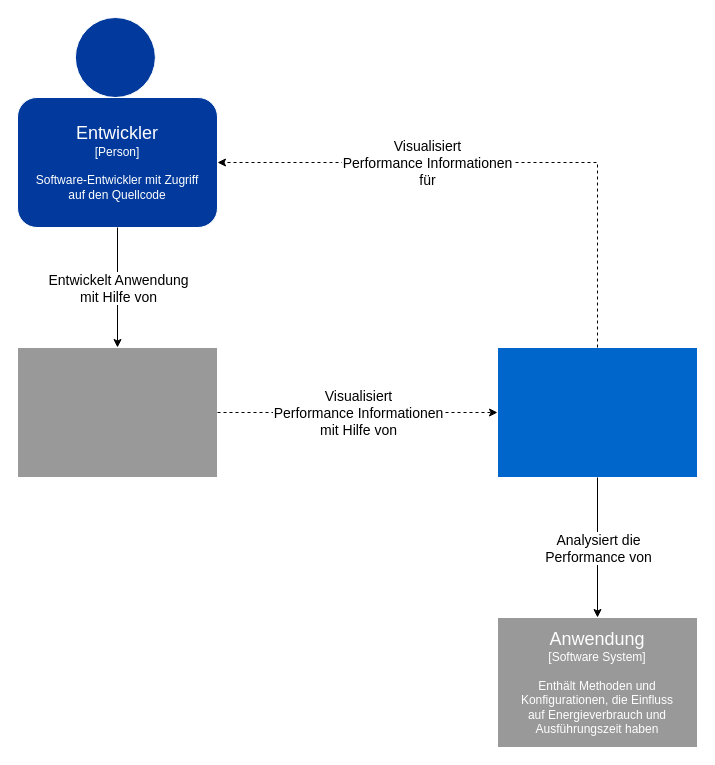
This 715x765 diagram has some shape labels left out. The shapes that lost their labels are listed below. From the top down, each one's centre as x and y in pixels, then its label:
(x=117, y=412): VS Code [Software System] Erlaubt es dem Entwickler, den Quellcode zu bearbeiten
(x=597, y=412): GreenIDE [VS Code Plugin] Analysiert die Performance der Anwendung
